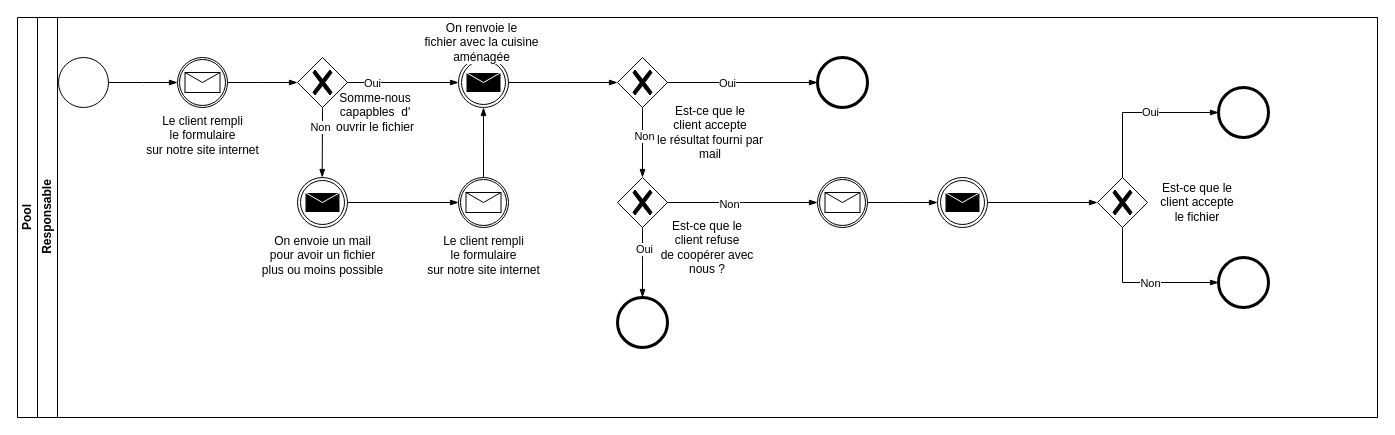
Some shapes in this 1395 by 435 pixel diagram are drawn without their labels. The box of each missing label's shape, as (x1, y1, x2, y2) in pixels:
Le client indique qu'est ce qui ne va pas dans le fichier envoyé: (816, 176, 868, 228)
On renvoie avec les modifications apporté: (936, 176, 988, 228)
